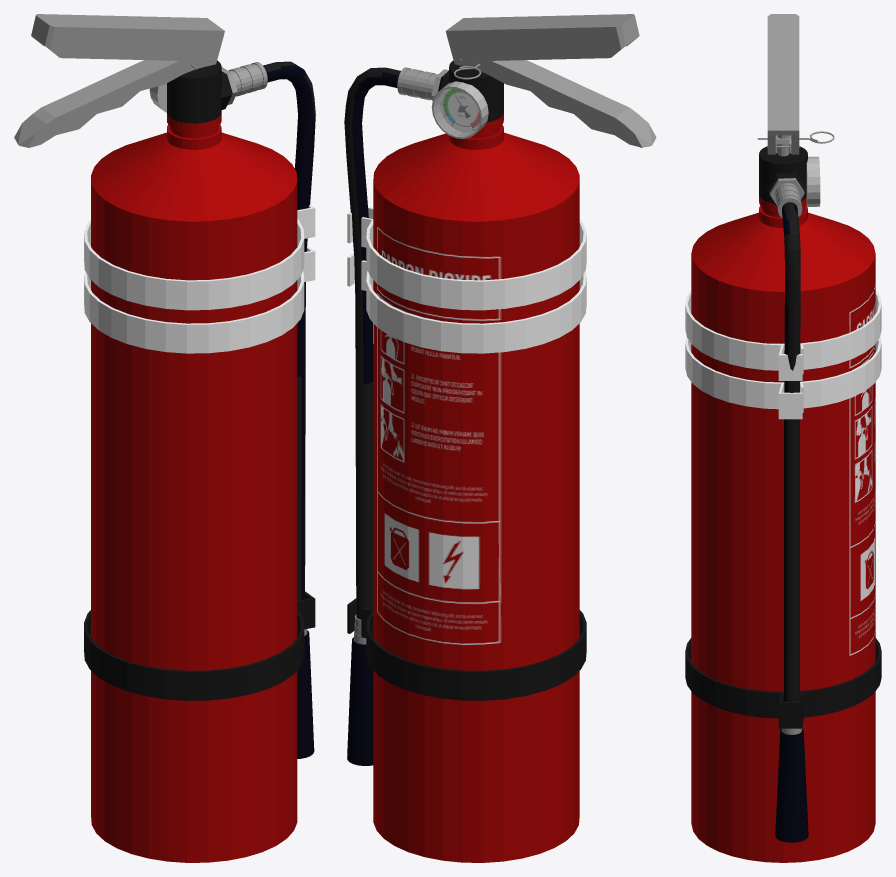
File: 1-Agua.glb
The picture shows the model from 3 angles, left to right: view 1: azimuth 30°, elevation 25°; view 2: azimuth 150°, elevation 25°; view 3: azimuth 270°, elevation 25°; orthographic projection. The views are drawn at different scales.
Visible parts, largest first — view 1: fire extinguisher, Hose, Top hand, belt, belt_palette_0.001, belt_palette_0.002, Lower hand3; view 2: fire extinguisher, Hose, Top hand, belt, belt_palette_0.001, belt_palette_0.002, Lower hand3, Manometer454, glass; view 3: fire extinguisher, Hose, belt, belt_palette_0.002, belt_palette_0.001, Top hand, Manometer454, bracing.
Part boxes in pixels (left/top/right/bottom): fire extinguisher: left=91, top=60, right=297, bottom=862; Hose: left=228, top=61, right=315, bottom=758; Top hand: left=31, top=14, right=224, bottom=68; belt: left=84, top=591, right=315, bottom=700; belt_palette_0.001: left=84, top=204, right=315, bottom=310; belt_palette_0.002: left=84, top=246, right=315, bottom=353; Lower hand3: left=14, top=60, right=195, bottom=147; fire extinguisher: left=373, top=60, right=579, bottom=862; Hose: left=344, top=67, right=437, bottom=765; Top hand: left=446, top=14, right=639, bottom=67; belt: left=347, top=598, right=586, bottom=700; belt_palette_0.001: left=347, top=206, right=586, bottom=310; belt_palette_0.002: left=347, top=253, right=586, bottom=353; Lower hand3: left=474, top=60, right=656, bottom=147; Manometer454: left=431, top=81, right=488, bottom=138; glass: left=433, top=88, right=480, bottom=136; fire extinguisher: left=691, top=144, right=875, bottom=862; Hose: left=775, top=183, right=808, bottom=842; belt: left=685, top=638, right=881, bottom=728; belt_palette_0.002: left=685, top=336, right=881, bottom=419; belt_palette_0.001: left=685, top=290, right=881, bottom=380; Top hand: left=767, top=14, right=799, bottom=154; Manometer454: left=806, top=156, right=820, bottom=206; bracing: left=766, top=172, right=806, bottom=206.
Bounding box in the file's own units: 0.8424 × 2.23 × 0.534.
Materials: 6 (3 with a texture image).
